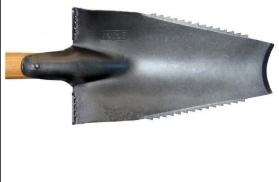PELLE: (0, 0, 279, 128)
